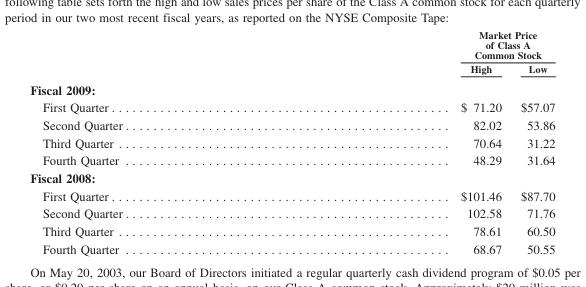table: (29, 28, 554, 255)
table column: (29, 28, 293, 255), (293, 28, 510, 255), (510, 28, 554, 255)
table column header: (29, 28, 554, 78)
table projected row header: (29, 78, 554, 98), (29, 168, 554, 186)
table row: (29, 28, 554, 61), (29, 78, 554, 98), (29, 115, 554, 133), (29, 133, 554, 151), (29, 168, 554, 186), (29, 186, 554, 204), (29, 204, 554, 222), (29, 61, 554, 78), (29, 98, 554, 115), (29, 151, 554, 168), (29, 222, 554, 239), (29, 239, 554, 255)
table spanning cell: (293, 28, 554, 61)
